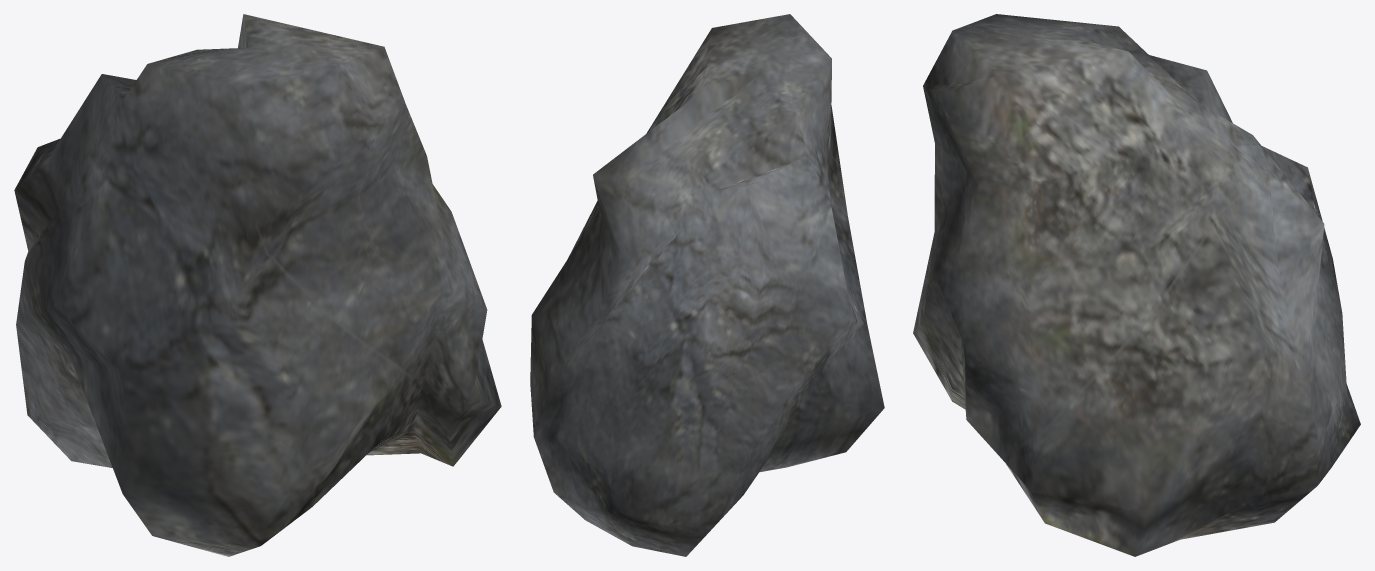
Rendered from Boulder_05.FBX.
The picture shows the model from 3 angles, left to right: view 1: azimuth 30°, elevation 25°; view 2: azimuth 150°, elevation 25°; view 3: azimuth 270°, elevation 25°; orthographic projection. The views are drawn at different scales.
Visible parts, largest first — view 1: Boulder_05; view 2: Boulder_05; view 3: Boulder_05.
Part boxes in pixels (x1=…): Boulder_05: x1=14, y1=14, x2=501, y2=556; Boulder_05: x1=530, y1=14, x2=884, y2=556; Boulder_05: x1=913, y1=14, x2=1360, y2=556.
Bounding box in the file's own units: 42 × 53.87 × 47.57.
